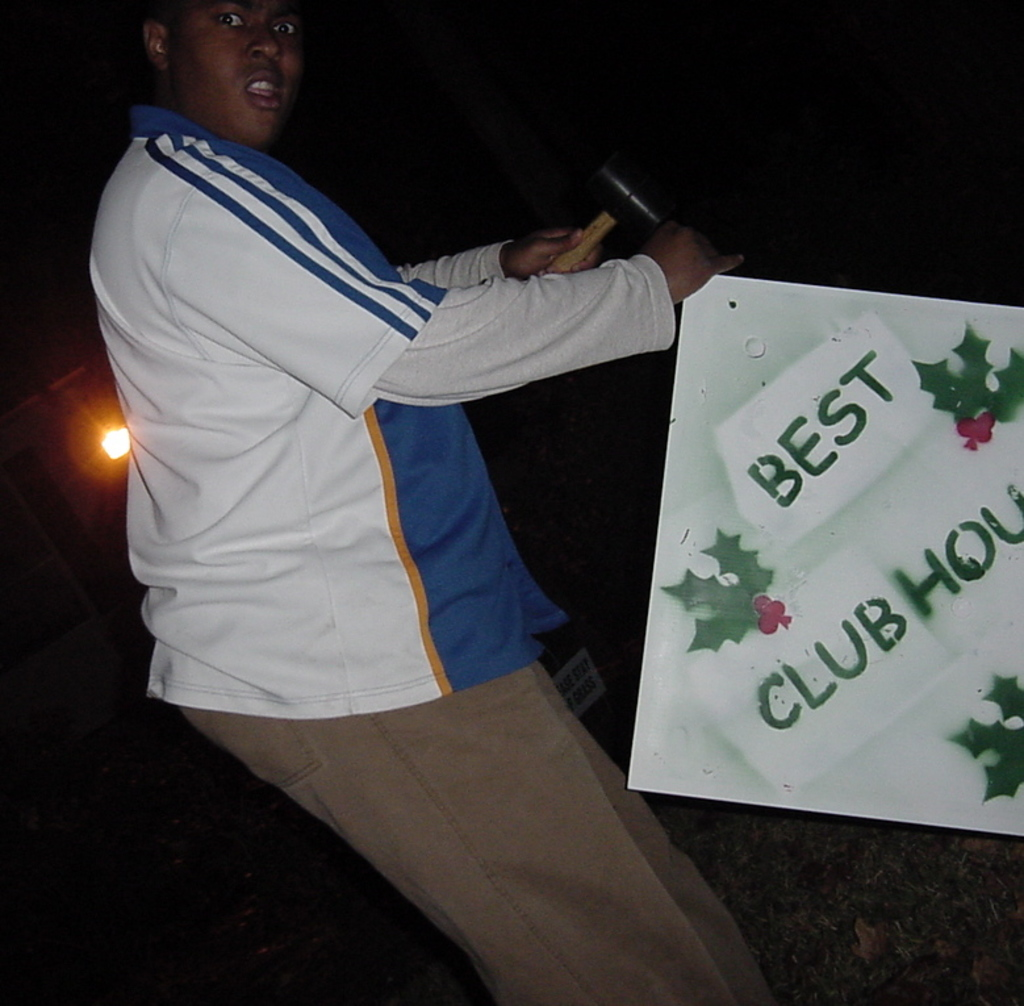Human_hand: (648, 222, 733, 297), (505, 228, 601, 283)
